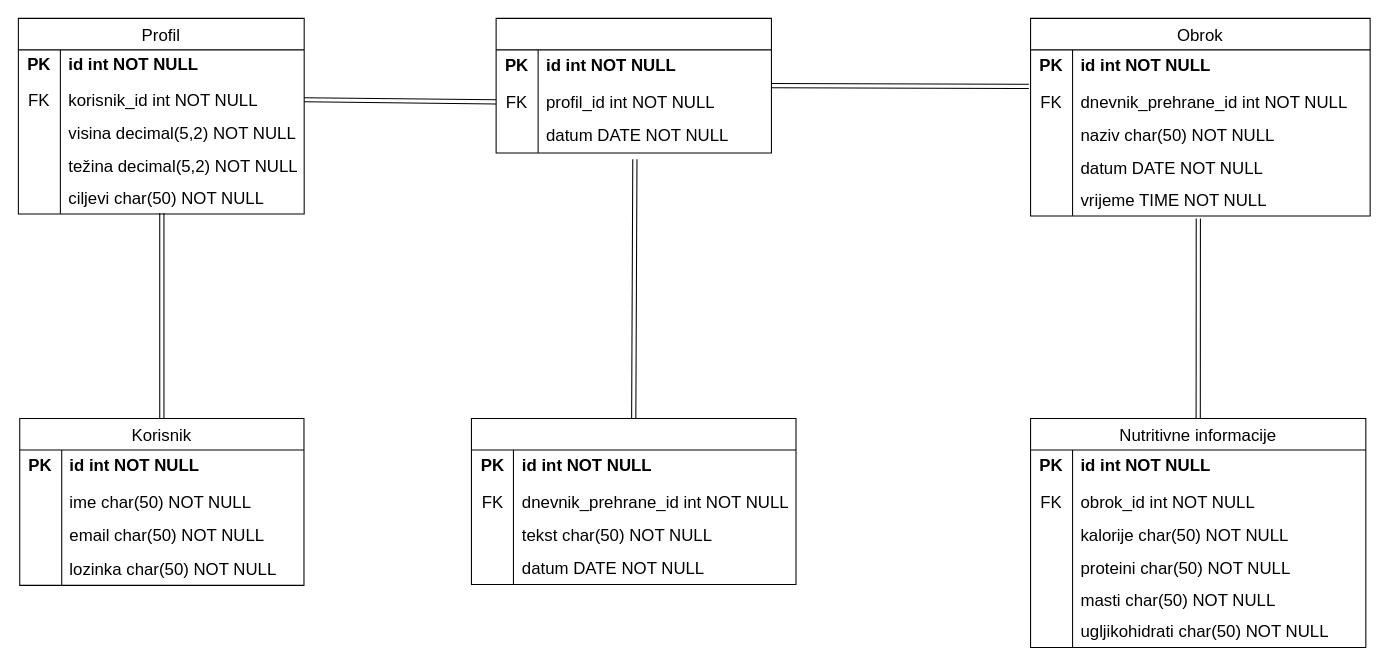
This 1392x670 diagram has some shape labels left out. The shapes that lost their labels are listed below. From the top down, each one's box as (x1, y1, x2, y2) in pixels, then its label:
(495, 17, 771, 153): Dnevnik prehrane
(470, 417, 796, 585): Komentar
